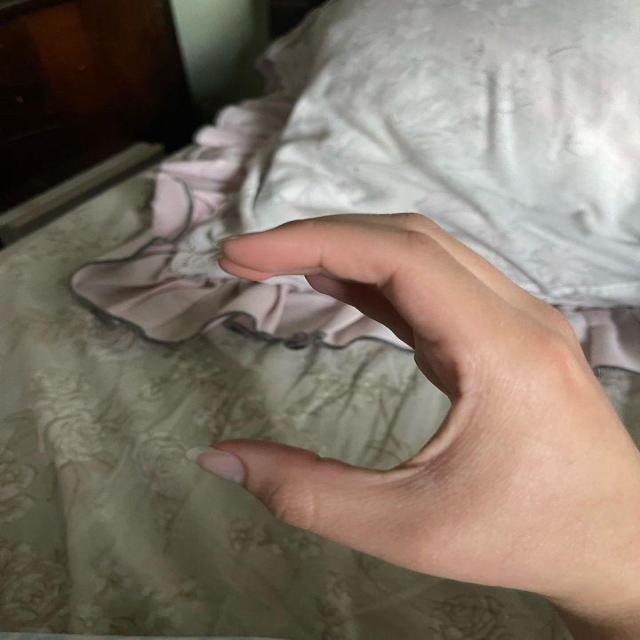C: (183, 205, 632, 610)
